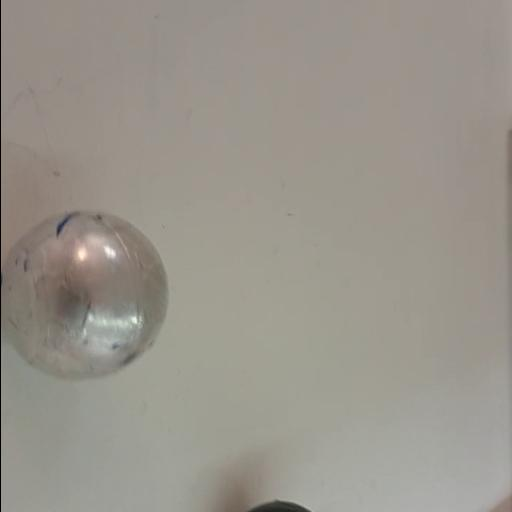alive: (0, 207, 172, 386)
dead: (243, 499, 317, 512)
